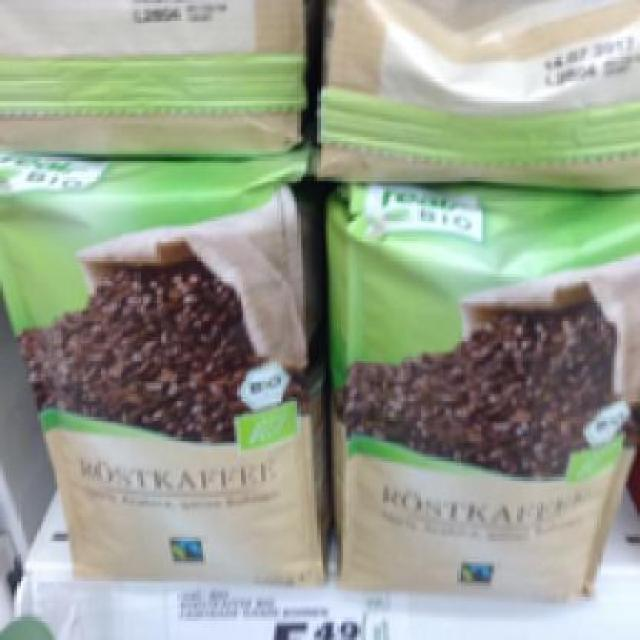Coffee: (0, 150, 315, 583), (320, 183, 637, 603)
